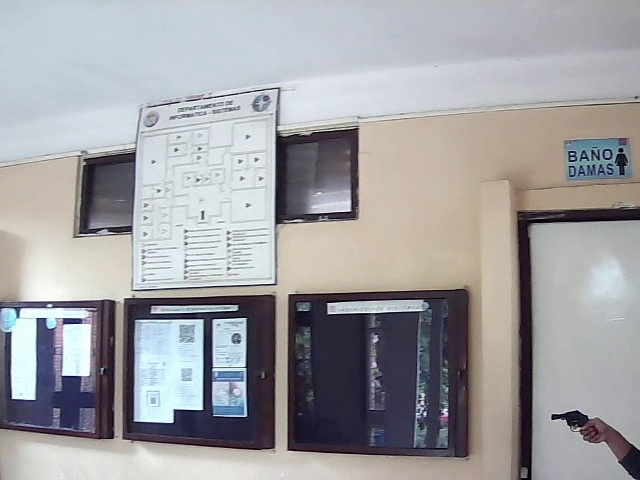pistola: (546, 404, 600, 434)
